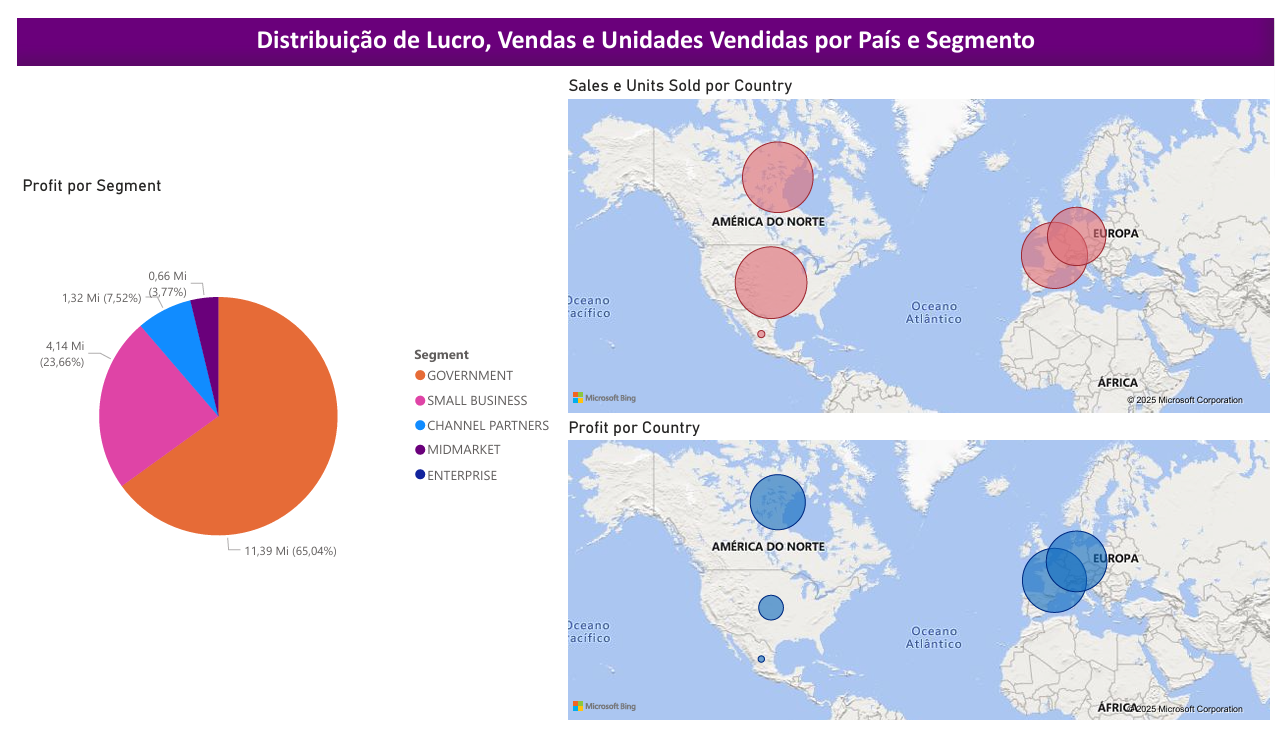

The page's visual inventory and layout, read from the dashboard file:
{"tool":"powerbi","page":{"name":"Página 3","canvas":[1280,720],"ordinal":2},"visuals":[{"type":"pieChart","title":"Profit por Segment","fields":{"Category":["financials.Segment"],"Y":["Sum(financials.Profit)"]},"box":[0,159.8,555.8,470.9],"z":0},{"type":"textbox","box":[0,0,1280.2,47.5],"z":1000},{"type":"map","title":"Sales e Units Sold por Country","fields":{"Category":["financials.Country"],"Size":["Sum(financials.Sales)"]},"box":[555.8,57.6,724.3,348.5],"z":2000},{"type":"map","title":"Profit por Country","fields":{"Category":["financials.Country"],"Size":["Sum(financials.Profit)"]},"box":[555.8,406.1,724.3,313.9],"z":3000}]}

Visuals, with their boxes in screenshot pixels (x1, y1, x2, y2), scaled from the page's 1280x720 canvas onto the 1283x735 screenshot:
"Profit por Segment" pieChart: x1=0, y1=163, x2=557, y2=644
textbox: x1=0, y1=0, x2=1282, y2=48
"Sales e Units Sold por Country" map: x1=557, y1=59, x2=1282, y2=415
"Profit por Country" map: x1=557, y1=415, x2=1282, y2=734
